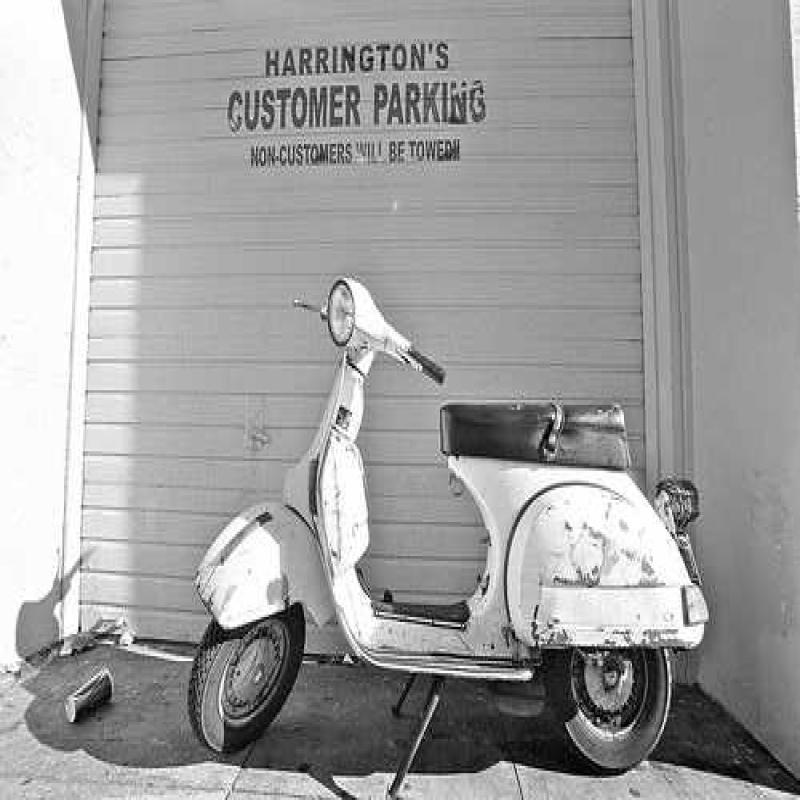bike: (191, 225, 721, 800)
